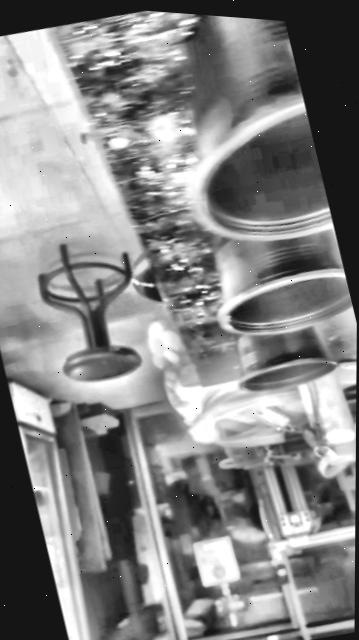pot: (154, 12, 335, 257), (214, 228, 352, 333), (236, 326, 335, 390)
